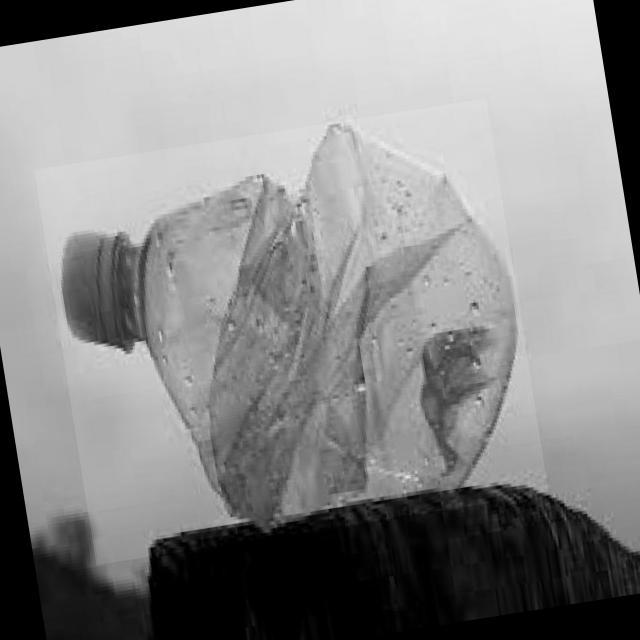defected: (34, 98, 549, 565)
